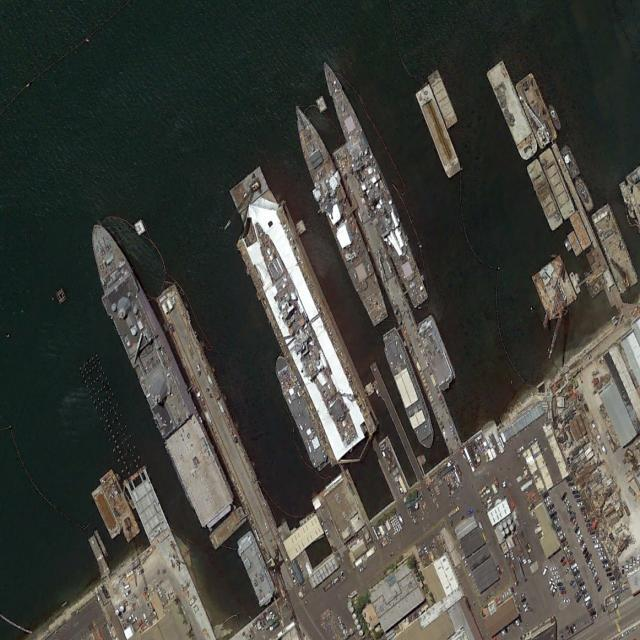Auxiliary Ships: (75, 207, 238, 535)
Cruiser: (313, 51, 432, 311)
Destroyer: (284, 95, 393, 332)
Other Ship: (269, 348, 334, 476), (378, 324, 441, 454)
Other Warship: (245, 213, 360, 454)
